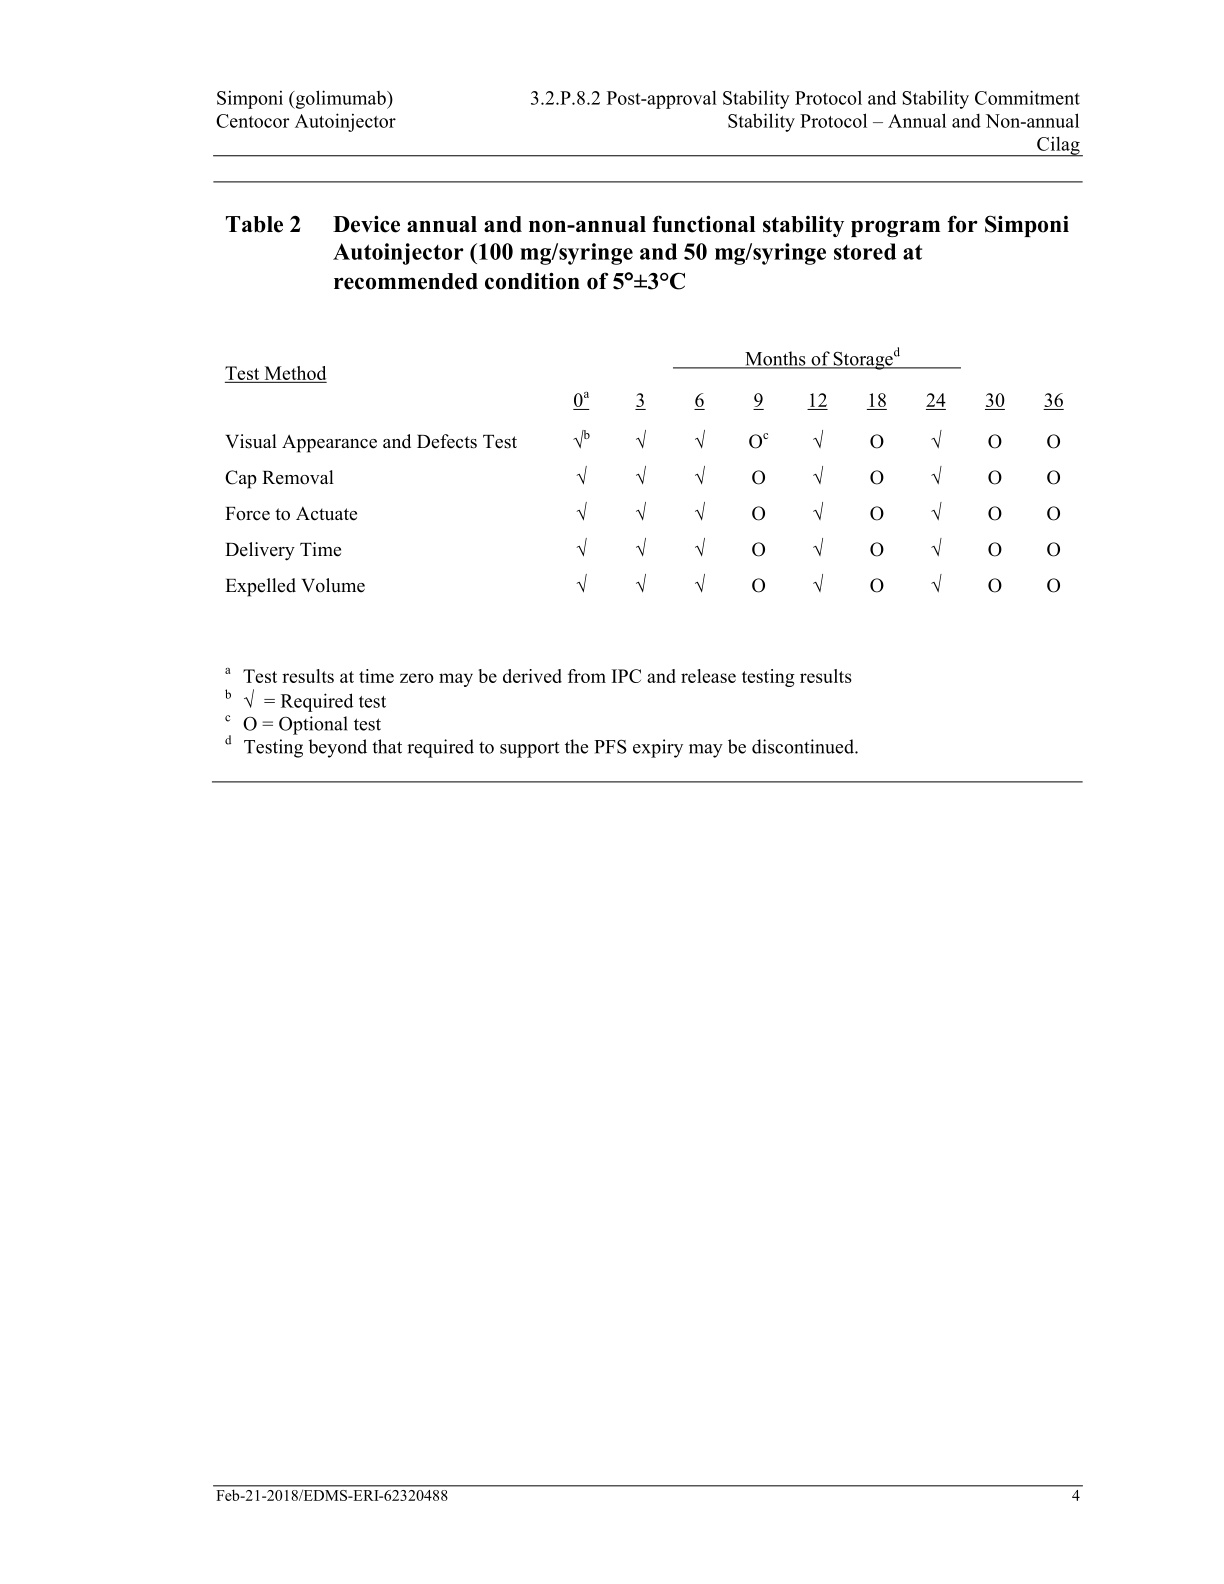nolines: (222, 345, 1067, 599)
